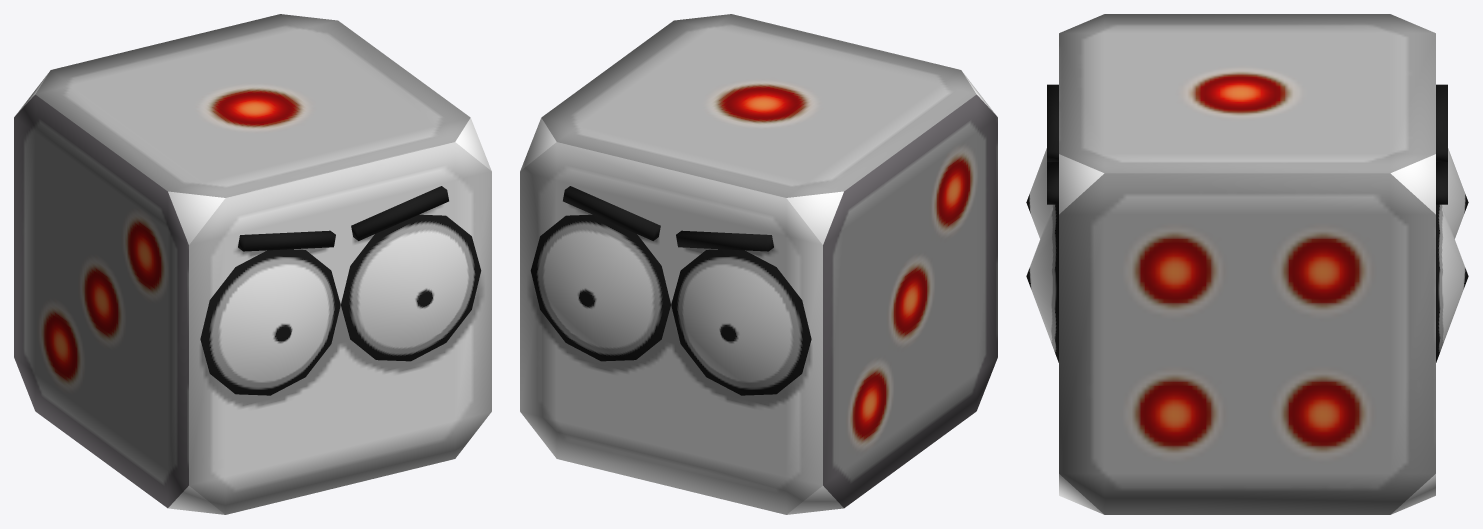
Rendered from shaizi.FBX.
The picture shows the model from 3 angles, left to right: view 1: azimuth 30°, elevation 25°; view 2: azimuth 150°, elevation 25°; view 3: azimuth 270°, elevation 25°; orthographic projection. The views are drawn at different scales.
Visible parts, largest first — view 1: shaizi; view 2: shaizi; view 3: shaizi.
Part boxes in pixels (left/top/right/bottom): shaizi: left=14, top=14, right=491, bottom=514; shaizi: left=520, top=14, right=997, bottom=514; shaizi: left=1026, top=14, right=1468, bottom=514.
Size of the model in its own units: 618 by 618 by 725.
